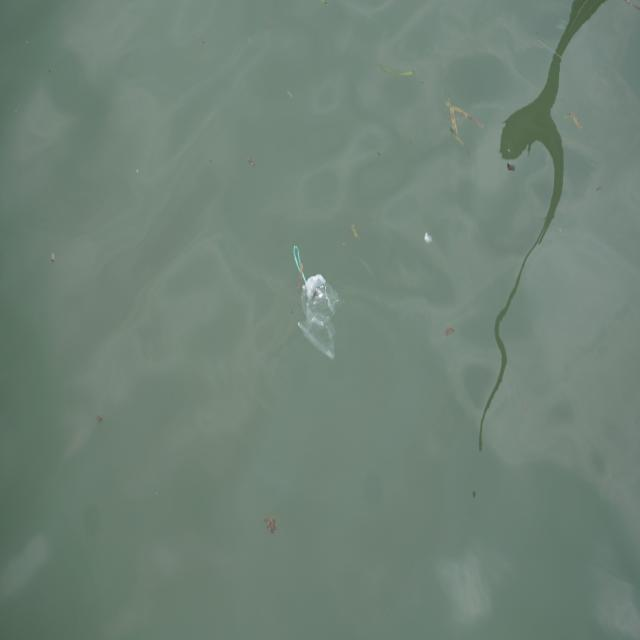Kantong Plastik: (298, 274, 345, 367)
